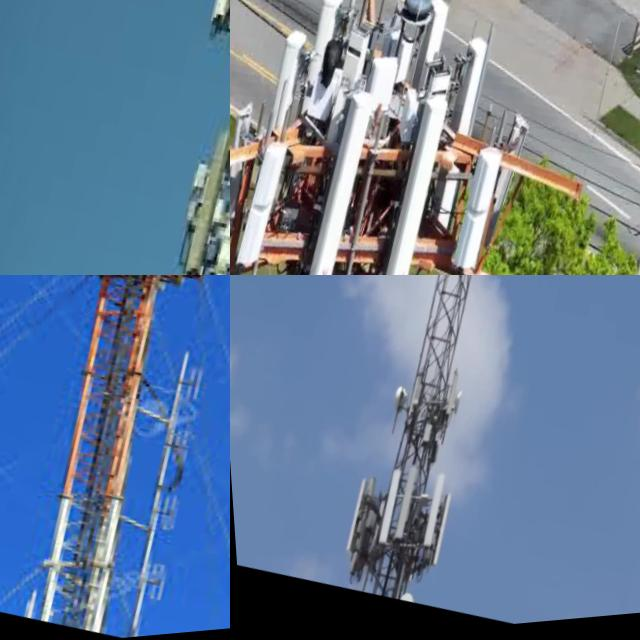GSM Antenna: (286, 90, 390, 275), (362, 100, 461, 275), (162, 133, 230, 275), (435, 146, 508, 275), (230, 135, 294, 273), (252, 25, 317, 150), (435, 39, 495, 156), (290, 0, 353, 101), (400, 0, 457, 108), (230, 97, 265, 232), (376, 461, 419, 551), (361, 465, 402, 551), (331, 477, 371, 559), (407, 474, 446, 558), (417, 497, 453, 571), (432, 372, 459, 426)
Microwave Antenna: (379, 377, 411, 422), (440, 388, 462, 427)
